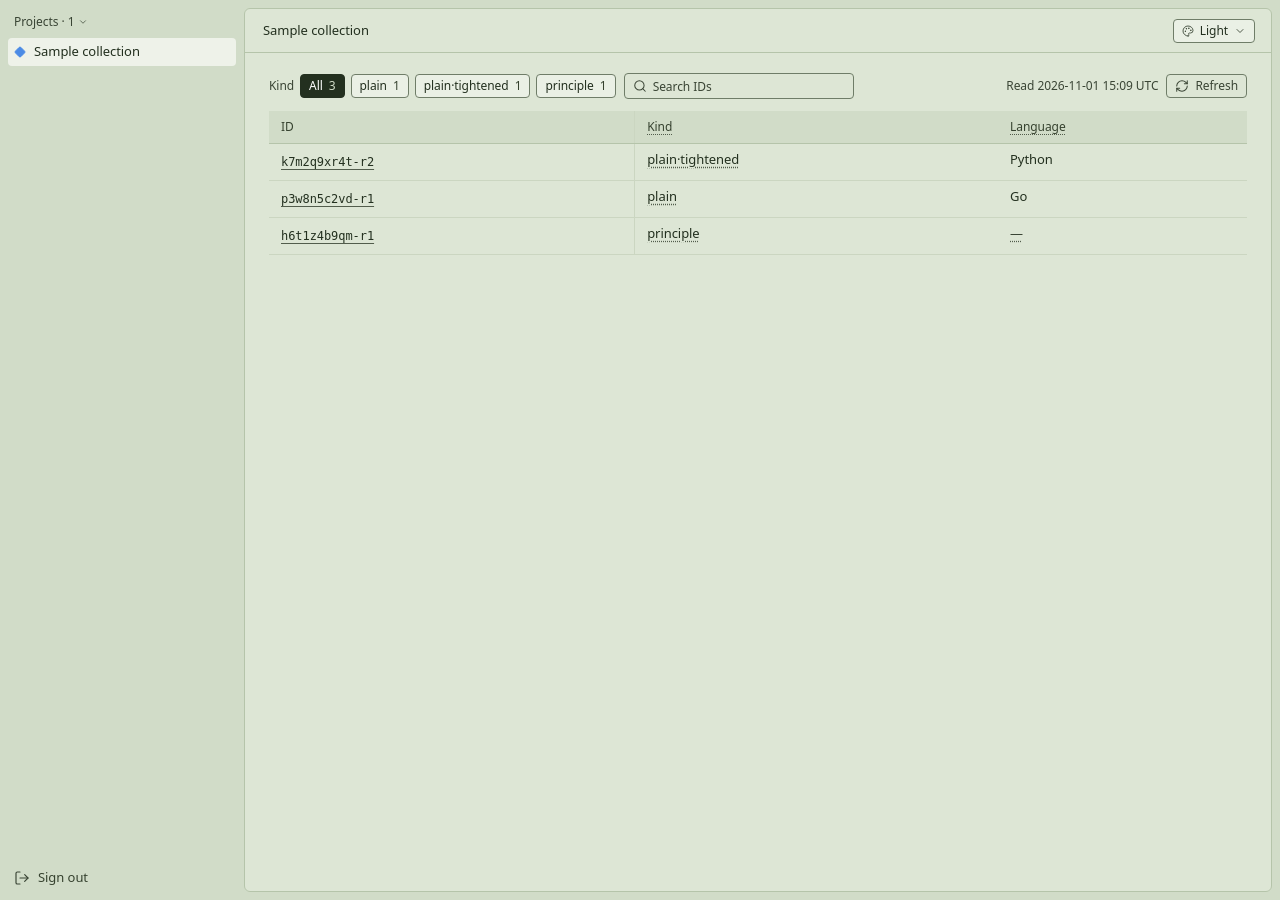
Test case: the share site's sign-in › says so when a sign-out fails, and stays signed in
The image size is (1280, 900).
Click the button "Sign out" at [122, 878], box [8,864,236,892]
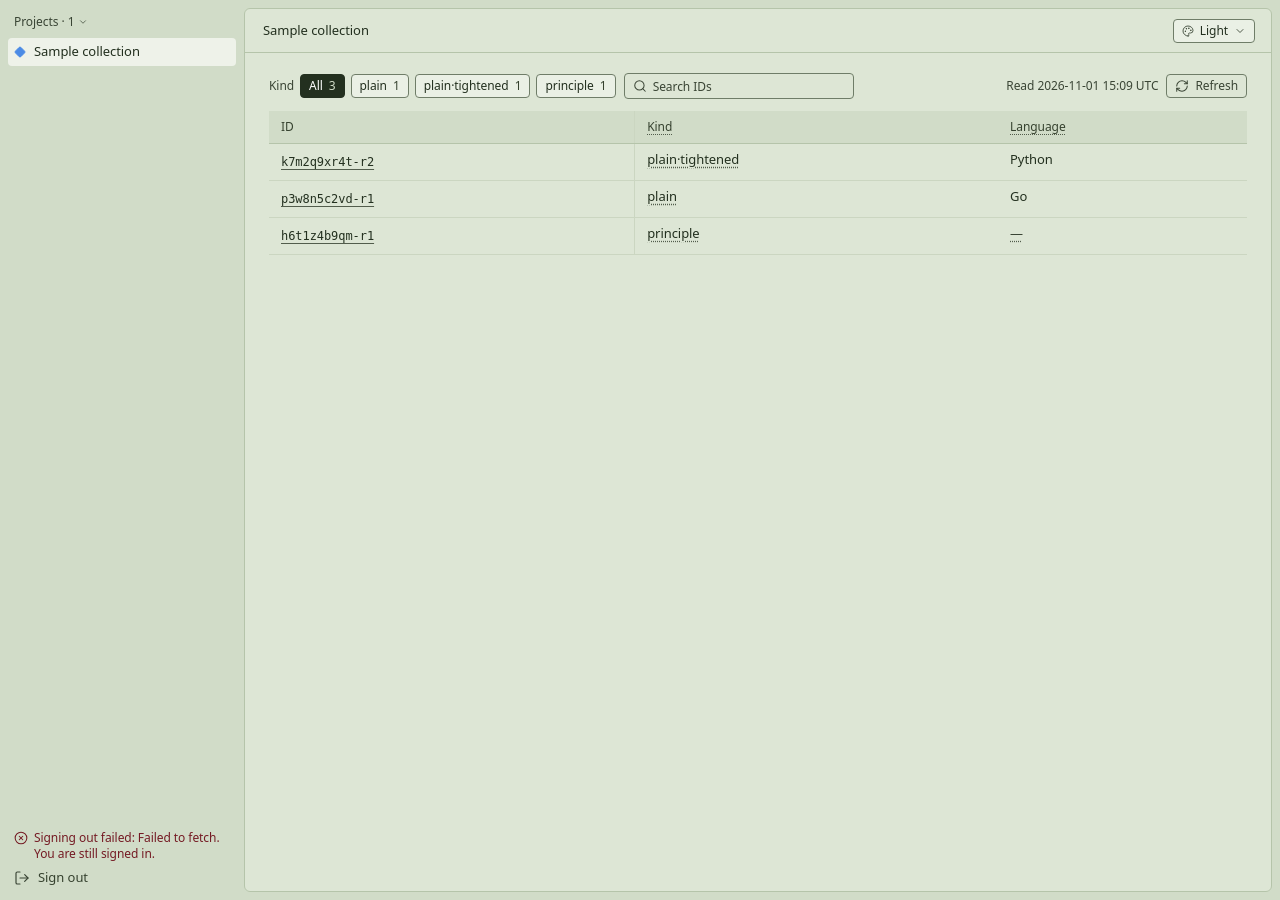
Expected: the table is shown, [269,111,1247,255]
Now the message reads "Signing out failed: Failed to fetch. You are still signed in.", box [34,829,220,862]
